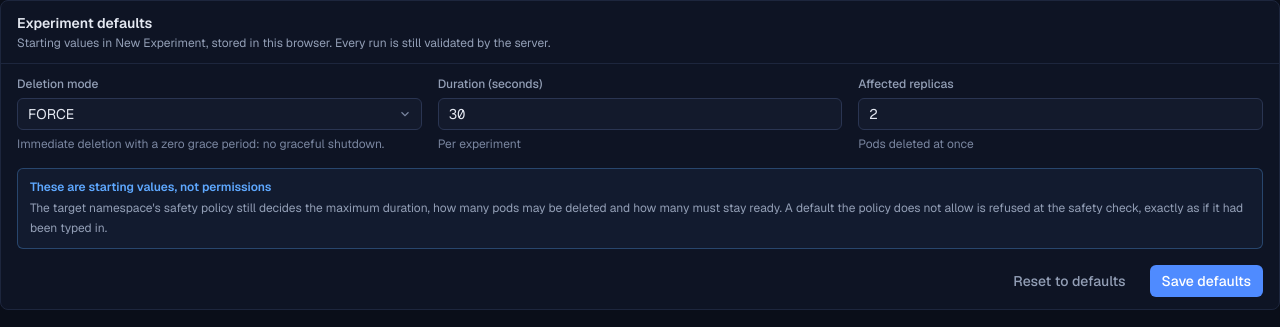
Experiment defaults › reset restores the built-in values
Check: the number field labelled "Duration (seconds)" holds "30", box [438, 98, 842, 130]
Click the button "Reset to defaults": (1069, 281) [1001, 265, 1138, 297]
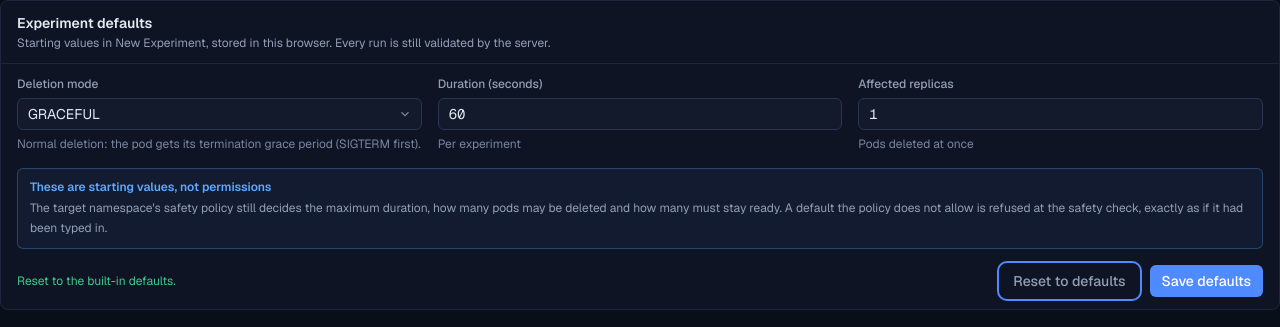
Check: the number field labelled "Duration (seconds)" holds "60", box [438, 98, 842, 130]
